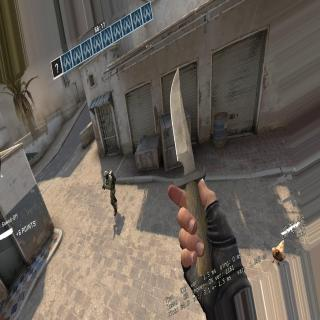CT-Body: (101, 168, 119, 213)
CT-Head: (104, 170, 108, 180)
